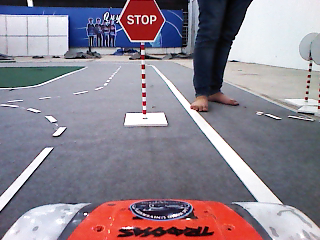stop: (117, 1, 167, 43)
